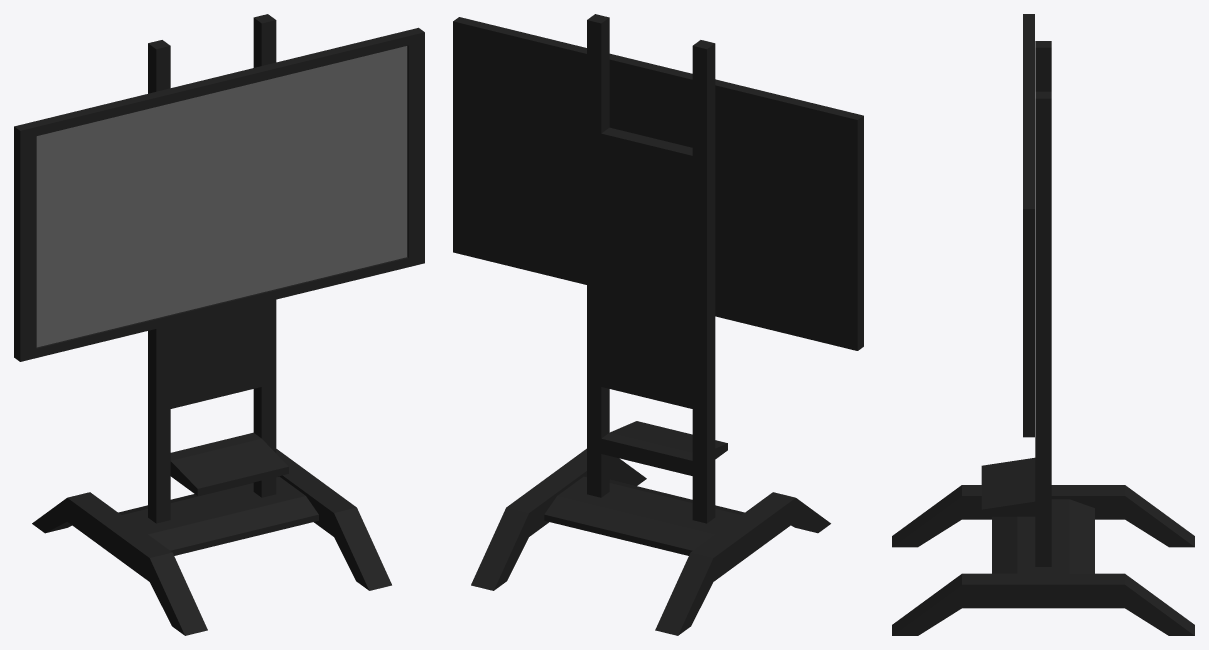
The model's file is lobby TV.fbx.
The picture shows the model from 3 angles, left to right: view 1: azimuth 30°, elevation 25°; view 2: azimuth 150°, elevation 25°; view 3: azimuth 270°, elevation 25°; orthographic projection.
Visible parts, largest first — view 1: Cube.003; view 2: Cube.003; view 3: Cube.003.
Part boxes in pixels (x1=…): Cube.003: x1=14, y1=14, x2=424, y2=635; Cube.003: x1=453, y1=14, x2=863, y2=635; Cube.003: x1=892, y1=14, x2=1194, y2=635.
Bounding box in the file's own units: 854 × 1055 × 561.
1 material, 1 textured.
